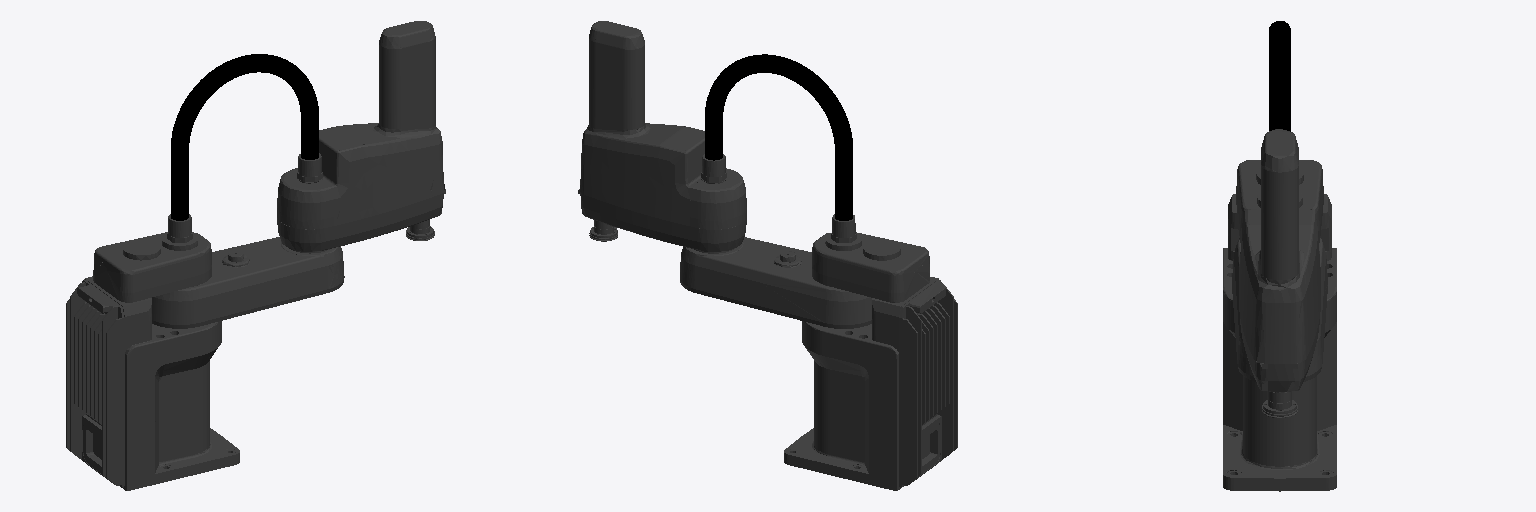
The robot description file, URDF, robot "adept_cobra_s600":
<?xml version="1.0" ?>
<!-- =================================================================================== -->
<!-- |    This document was autogenerated by xacro from cobra_s600.xacro               | -->
<!-- |    EDITING THIS FILE BY HAND IS NOT RECOMMENDED                                 | -->
<!-- =================================================================================== -->
<robot name="adept_cobra_s600" xmlns:xacro="http://www.ros.org/wiki/xacro">
  <!-- link list -->
  <link name="base_link">
    <visual>
      <origin rpy="0 0 0" xyz="0 0 0"/>
      <geometry>
        <mesh filename="package://adept_cobra_s600_support/meshes/cobra_s600/visual/base_link.stl" scale="0.001 0.001 0.001"/>
      </geometry>
      <material name="grey">
        <color rgba=".30 .30 .30 1"/>
      </material>
    </visual>
    <collision>
      <origin rpy="0 0 0" xyz="0 0 0"/>
      <geometry>
        <mesh filename="package://adept_cobra_s600_support/meshes/cobra_s600/collision/base_link.stl" scale="0.001 0.001 0.001"/>
      </geometry>
    </collision>
  </link>
  <link name="inner_link">
    <visual>
      <origin rpy="0 0 0" xyz="0 0 0"/>
      <geometry>
        <mesh filename="package://adept_cobra_s600_support/meshes/cobra_s600/visual/link_1.stl" scale="0.001 0.001 0.001"/>
      </geometry>
      <material name="grey"/>
    </visual>
    <collision>
      <origin rpy="0 0 0" xyz="0 0 0"/>
      <geometry>
        <mesh filename="package://adept_cobra_s600_support/meshes/cobra_s600/collision/link_1.stl" scale="0.001 0.001 0.001"/>
      </geometry>
    </collision>
  </link>
  <link name="outer_link">
    <visual>
      <origin rpy="0 0 0" xyz="0 0 0"/>
      <geometry>
        <mesh filename="package://adept_cobra_s600_support/meshes/cobra_s600/visual/link_2.stl" scale="0.001 0.001 0.001"/>
      </geometry>
      <material name="grey"/>
    </visual>
    <collision>
      <origin rpy="0 0 0" xyz="0 0 0"/>
      <geometry>
        <mesh filename="package://adept_cobra_s600_support/meshes/cobra_s600/collision/link_2.stl" scale="0.001 0.001 0.001"/>
      </geometry>
    </collision>
  </link>
  <link name="quill_prismatic_link">
    <visual>
      <origin rpy="0 0 0" xyz="0 0 0"/>
      <geometry>
        <mesh filename="package://adept_cobra_s600_support/meshes/cobra_s600/visual/link_3.stl" scale="0.001 0.001 0.001"/>
      </geometry>
      <material name="grey"/>
    </visual>
    <collision>
      <origin rpy="0 0 0" xyz="0 0 0"/>
      <geometry>
        <mesh filename="package://adept_cobra_s600_support/meshes/cobra_s600/collision/link_3.stl" scale="0.001 0.001 0.001"/>
      </geometry>
    </collision>
  </link>
  <link name="quill_rotation_link">
    <visual>
      <origin rpy="0 0 0" xyz="0 0 0"/>
      <geometry>
        <mesh filename="package://adept_cobra_s600_support/meshes/cobra_s600/visual/link_4.stl" scale="0.001 0.001 0.001"/>
      </geometry>
      <material name="grey"/>
    </visual>
    <collision>
      <origin rpy="0 0 0" xyz="0 0 0"/>
      <geometry>
        <mesh filename="package://adept_cobra_s600_support/meshes/cobra_s600/collision/link_4.stl" scale="0.001 0.001 0.001"/>
      </geometry>
    </collision>
  </link>
  <link name="flyover_cable_link">
    <visual>
      <origin rpy="0 0 0" xyz="0 0 0"/>
      <geometry>
        <mesh filename="package://adept_cobra_s600_support/meshes/cobra_s600/visual/flyover_cable.stl" scale="0.001 0.001 0.001"/>
      </geometry>
      <material name="black">
        <color rgba="0 0 0 1"/>
      </material>
    </visual>
    <collision>
      <origin rpy="0 0 0" xyz="0 0 0"/>
      <geometry>
        <mesh filename="package://adept_cobra_s600_support/meshes/cobra_s600/collision/flyover_cable.stl" scale="0.001 0.001 0.001"/>
      </geometry>
    </collision>
  </link>
  <link name="tool0"/>
  <!-- end of the link list -->
  <!-- join list -->
  <joint name="inner_joint" type="revolute">
    <origin rpy="0 0 0" xyz="0 0 0.342"/>
    <parent link="base_link"/>
    <child link="inner_link"/>
    <axis xyz="0 0 1"/>
    <limit effort="100" lower="-1.8326" upper="1.8326" velocity="6.737"/>
  </joint>
  <joint name="outer_joint" type="revolute">
    <origin rpy="0 0 0" xyz="0.325 0 0"/>
    <parent link="inner_link"/>
    <child link="outer_link"/>
    <axis xyz="0 0 1"/>
    <limit effort="100" lower="-2.618" upper="2.618" velocity="12.5664"/>
  </joint>
  <joint name="quill_prismatic_joint" type="prismatic">
    <origin rpy="0 0 0" xyz="0.275 0 0.045"/>
    <parent link="outer_link"/>
    <child link="quill_prismatic_link"/>
    <axis xyz="0 0 1"/>
    <limit effort="10" lower="-0.210" upper="0" velocity="1.100"/>
  </joint>
  <joint name="quill_rotation_joint" type="revolute">
    <origin rpy="0 0 0" xyz="0 0 0"/>
    <parent link="quill_prismatic_link"/>
    <child link="quill_rotation_link"/>
    <axis xyz="0 0 -1"/>
    <limit effort="100" lower="-6.2832" upper="6.2832" velocity="20.944"/>
  </joint>
  <joint name="flyover_cable_joint" type="revolute">
    <origin rpy="0 0 0" xyz="0 0 0.550"/>
    <parent link="base_link"/>
    <child link="flyover_cable_link"/>
    <axis xyz="0 0 1"/>
    <mimic joint="inner_joint"/>
    <limit effort="100" lower="-1.8326" upper="1.8326" velocity="6.737"/>
  </joint>
  <joint name="quill_rotation_link-tool0" type="fixed">
    <parent link="quill_rotation_link"/>
    <child link="tool0"/>
    <origin rpy="3.1415926535898 0 0" xyz="0 0 0"/>
  </joint>
  <!-- end of the joint list -->
  <!-- ROS base_link to Adept World Coordinates transform -->
  <link name="base"/>
  <joint name="base_link-base" type="fixed">
    <origin rpy="0 0 0" xyz="0 0 0"/>
    <parent link="base_link"/>
    <child link="base"/>
  </joint>
</robot>

--- Render facts (derived) ---
The picture shows the robot from 3 angles, left to right: view 1: azimuth 30°, elevation 25°; view 2: azimuth 150°, elevation 25°; view 3: azimuth 270°, elevation 25°; orthographic projection.
Model adept_cobra_s600 with 8 links and 7 joints (4 revolute, 1 prismatic, 2 fixed), rooted at base_link, posed all joints at 0.
Links seen in each view (by area): view 1: base_link, outer_link, inner_link, flyover_cable_link; view 2: base_link, outer_link, inner_link, flyover_cable_link; view 3: base_link, outer_link, flyover_cable_link, inner_link, quill_rotation_link.
Boxes of the visible links, x1,y1,x2,y2 form: base_link: [66, 214, 239, 490]; outer_link: [277, 21, 445, 251]; inner_link: [152, 237, 344, 328]; flyover_cable_link: [171, 54, 318, 220]; base_link: [784, 214, 957, 490]; outer_link: [578, 21, 746, 251]; inner_link: [680, 237, 871, 328]; flyover_cable_link: [705, 54, 852, 220]; base_link: [1223, 160, 1336, 491]; outer_link: [1239, 129, 1320, 391]; flyover_cable_link: [1269, 21, 1290, 131]; inner_link: [1232, 238, 1327, 381]; quill_rotation_link: [1262, 391, 1297, 417].
Size in the robot's own frame: 0.8799 by 0.2 by 0.9155 metres.
Meshes: 6 distinct files referenced, 6 mesh visuals loaded (6 binary STL).